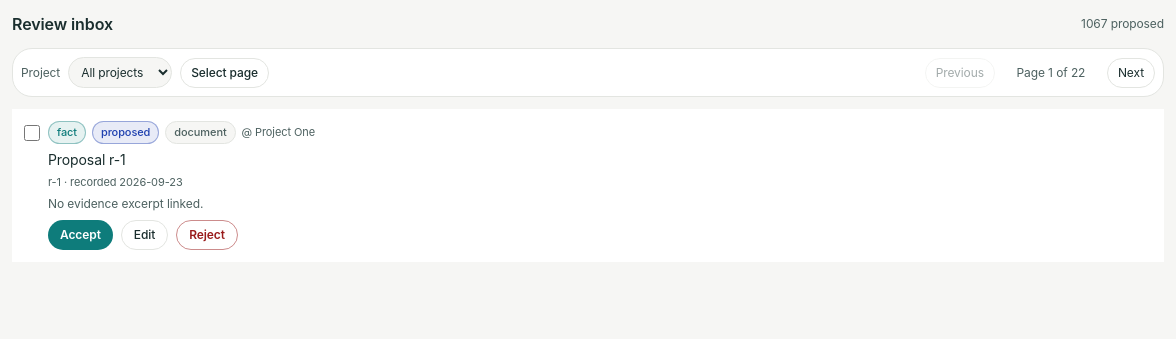
Test: CK-A10 paginated scoped inbox › project filter navigation resets to page one and never carries selected records across scope
This screenshot has width=1176, height=339.
Click the checkbox named "Select record r-1" at x=32, y=133, box [24,125,40,141]
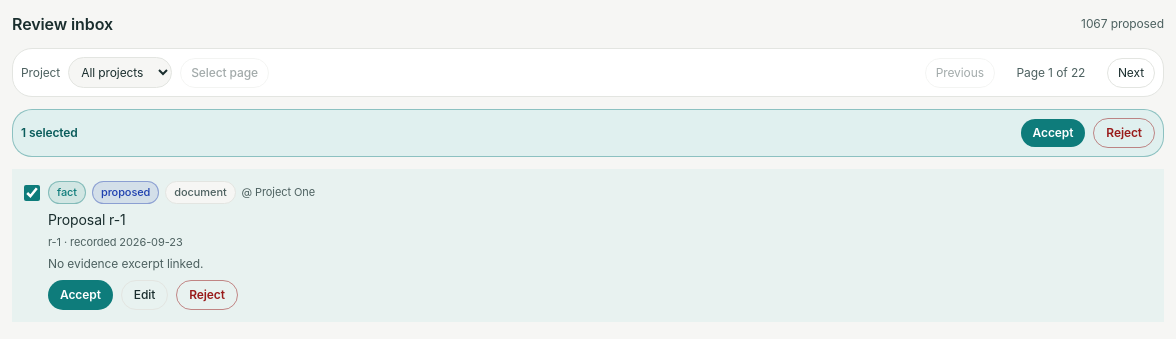
Expected: the text "1 selected" is shown, [21,125,78,141]
Select "Project Two" in the dropdown named "Project filter" at x=120, y=72, box [68,57,172,88]
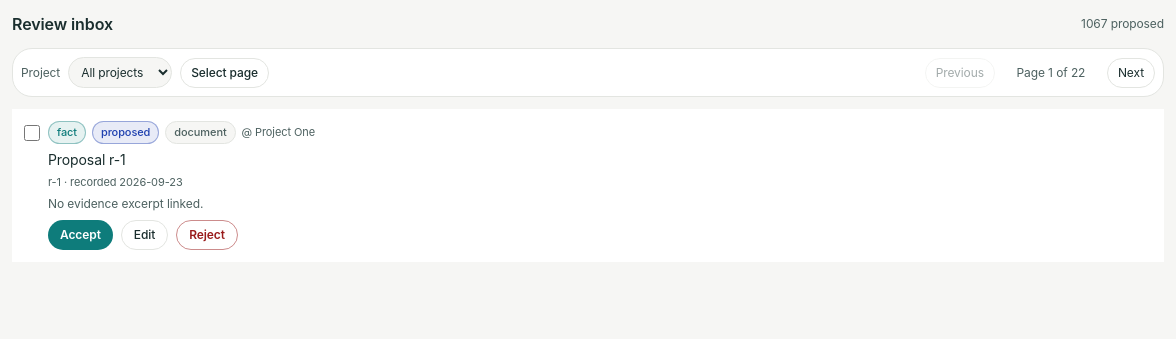
Expected: the text "1 selected" is gone
